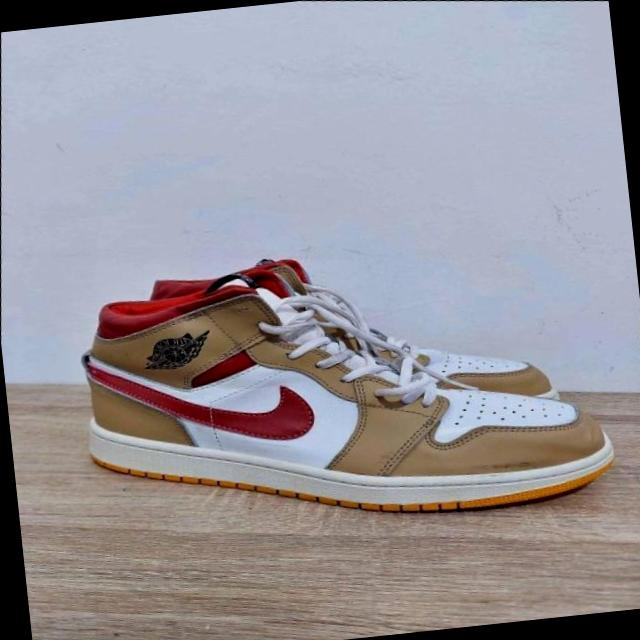nike_fake_jordan: (60, 224, 640, 571), (134, 215, 577, 440)
